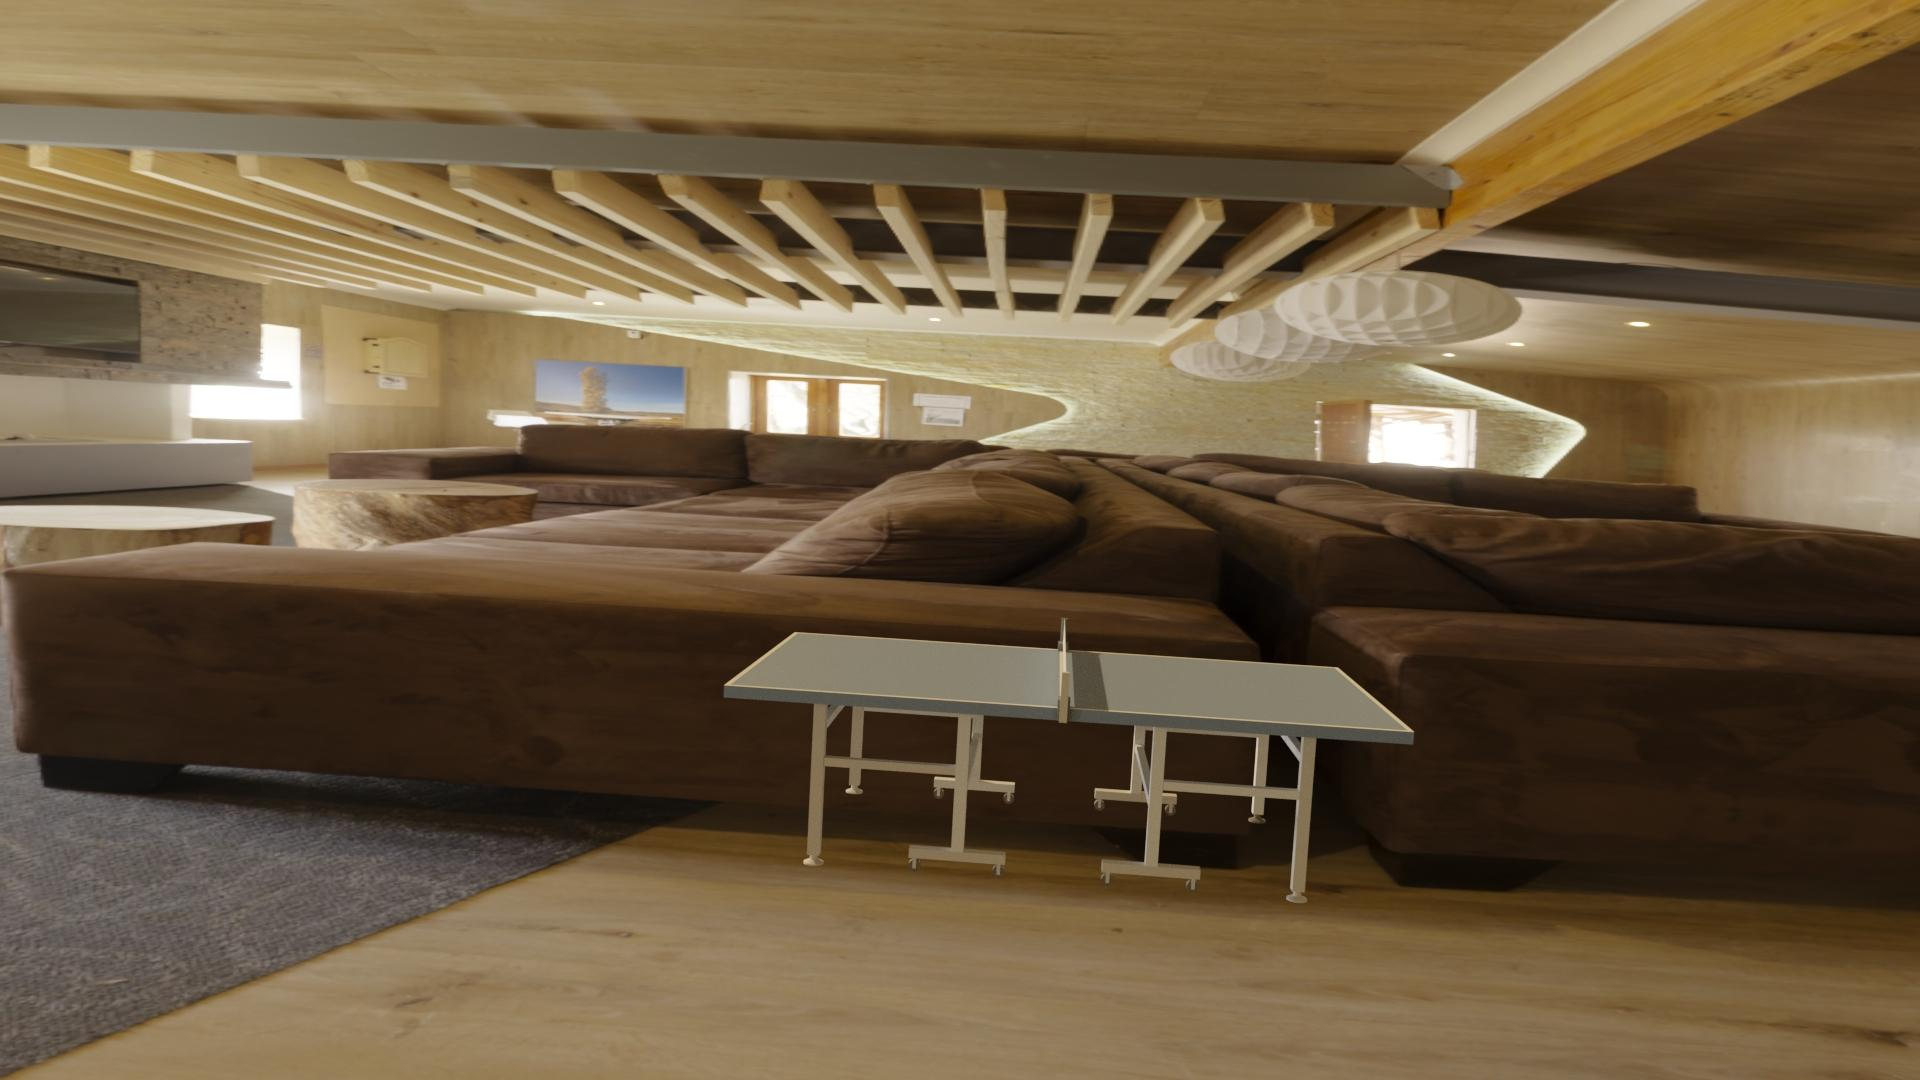table: (731, 633, 1408, 731)
